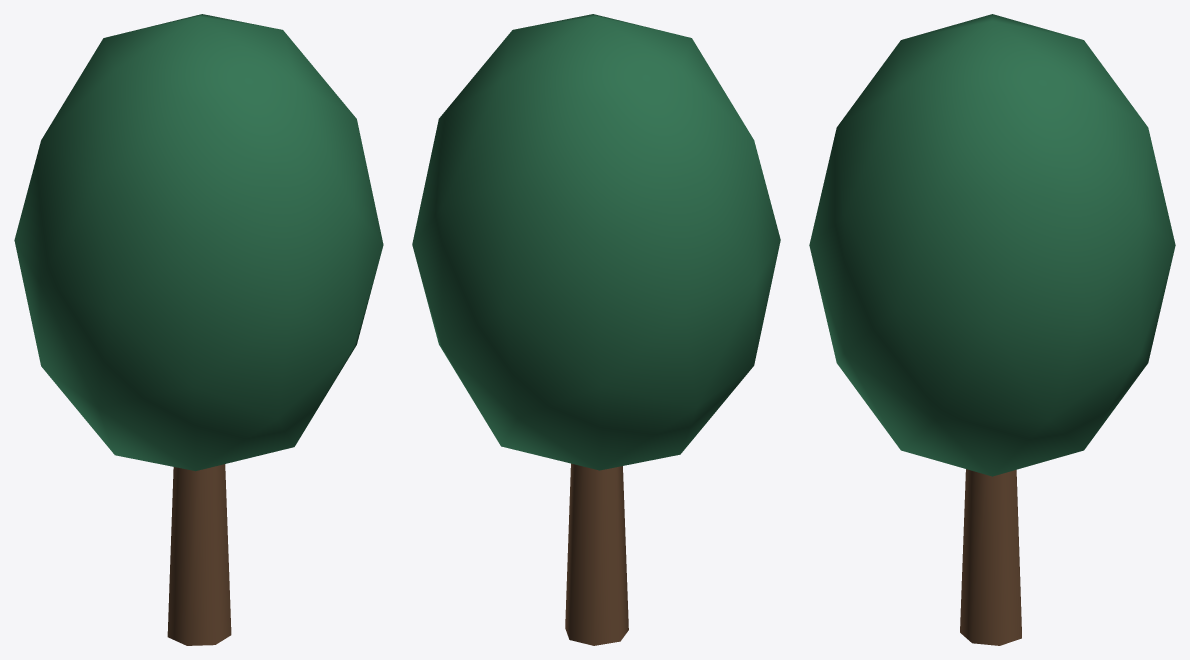
Rendered from tree.glb.
3 renders of one model, left to right at view 1: azimuth 30°, elevation 25°; view 2: azimuth 150°, elevation 25°; view 3: azimuth 270°, elevation 25°, orthographic.
Parts seen in each view (by area): view 1: tree; view 2: tree; view 3: tree.
Part boxes in pixels (x1,y1,x2,y2): tree: (14, 14, 383, 645); tree: (412, 14, 780, 645); tree: (809, 14, 1175, 645).
Bounding box in the file's own units: 2.7 × 4.97 × 2.7.
